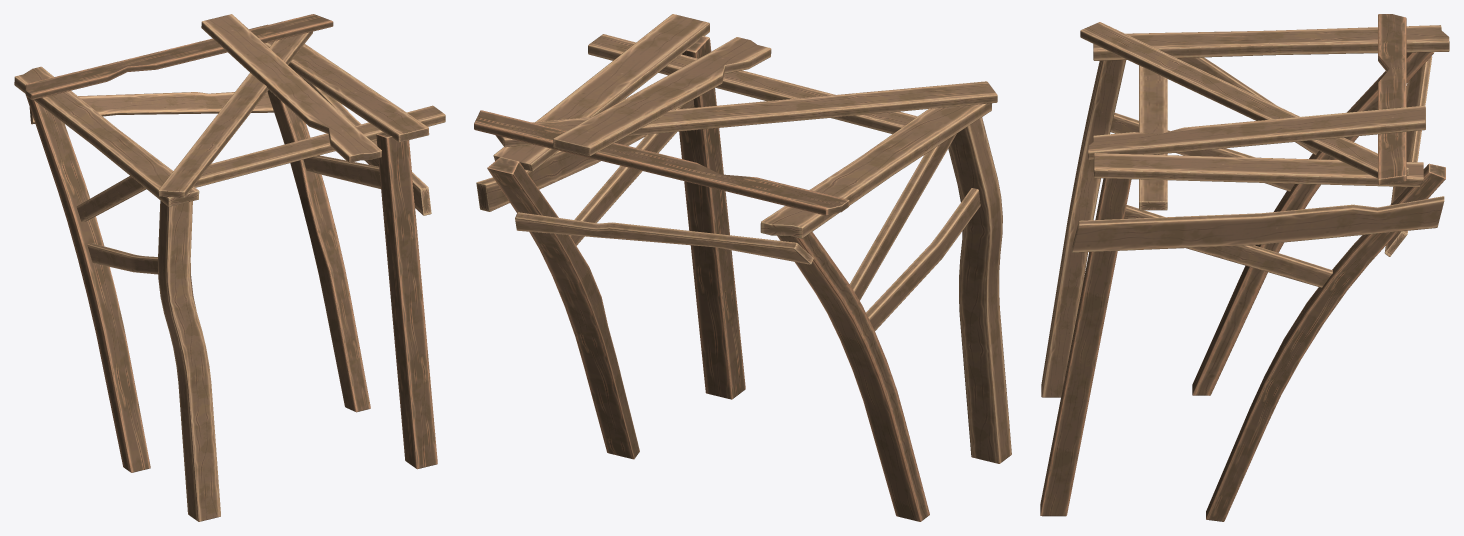
File: SM_Shelter_02.fbx
3 renders of one model, left to right at view 1: azimuth 30°, elevation 25°; view 2: azimuth 150°, elevation 25°; view 3: azimuth 270°, elevation 25°, orthographic. The views are drawn at different scales.
Parts seen in each view (by area): view 1: SM_Shelter_02_LOD0; view 2: SM_Shelter_02_LOD0; view 3: SM_Shelter_02_LOD0.
Part boxes in pixels (x1=…): SM_Shelter_02_LOD0: x1=14, y1=14, x2=445, y2=521; SM_Shelter_02_LOD0: x1=474, y1=14, x2=1011, y2=521; SM_Shelter_02_LOD0: x1=1040, y1=14, x2=1449, y2=521.
Bounding box in the file's own units: 295 × 302 × 306.
Materials: 1 (1 with a texture image).
